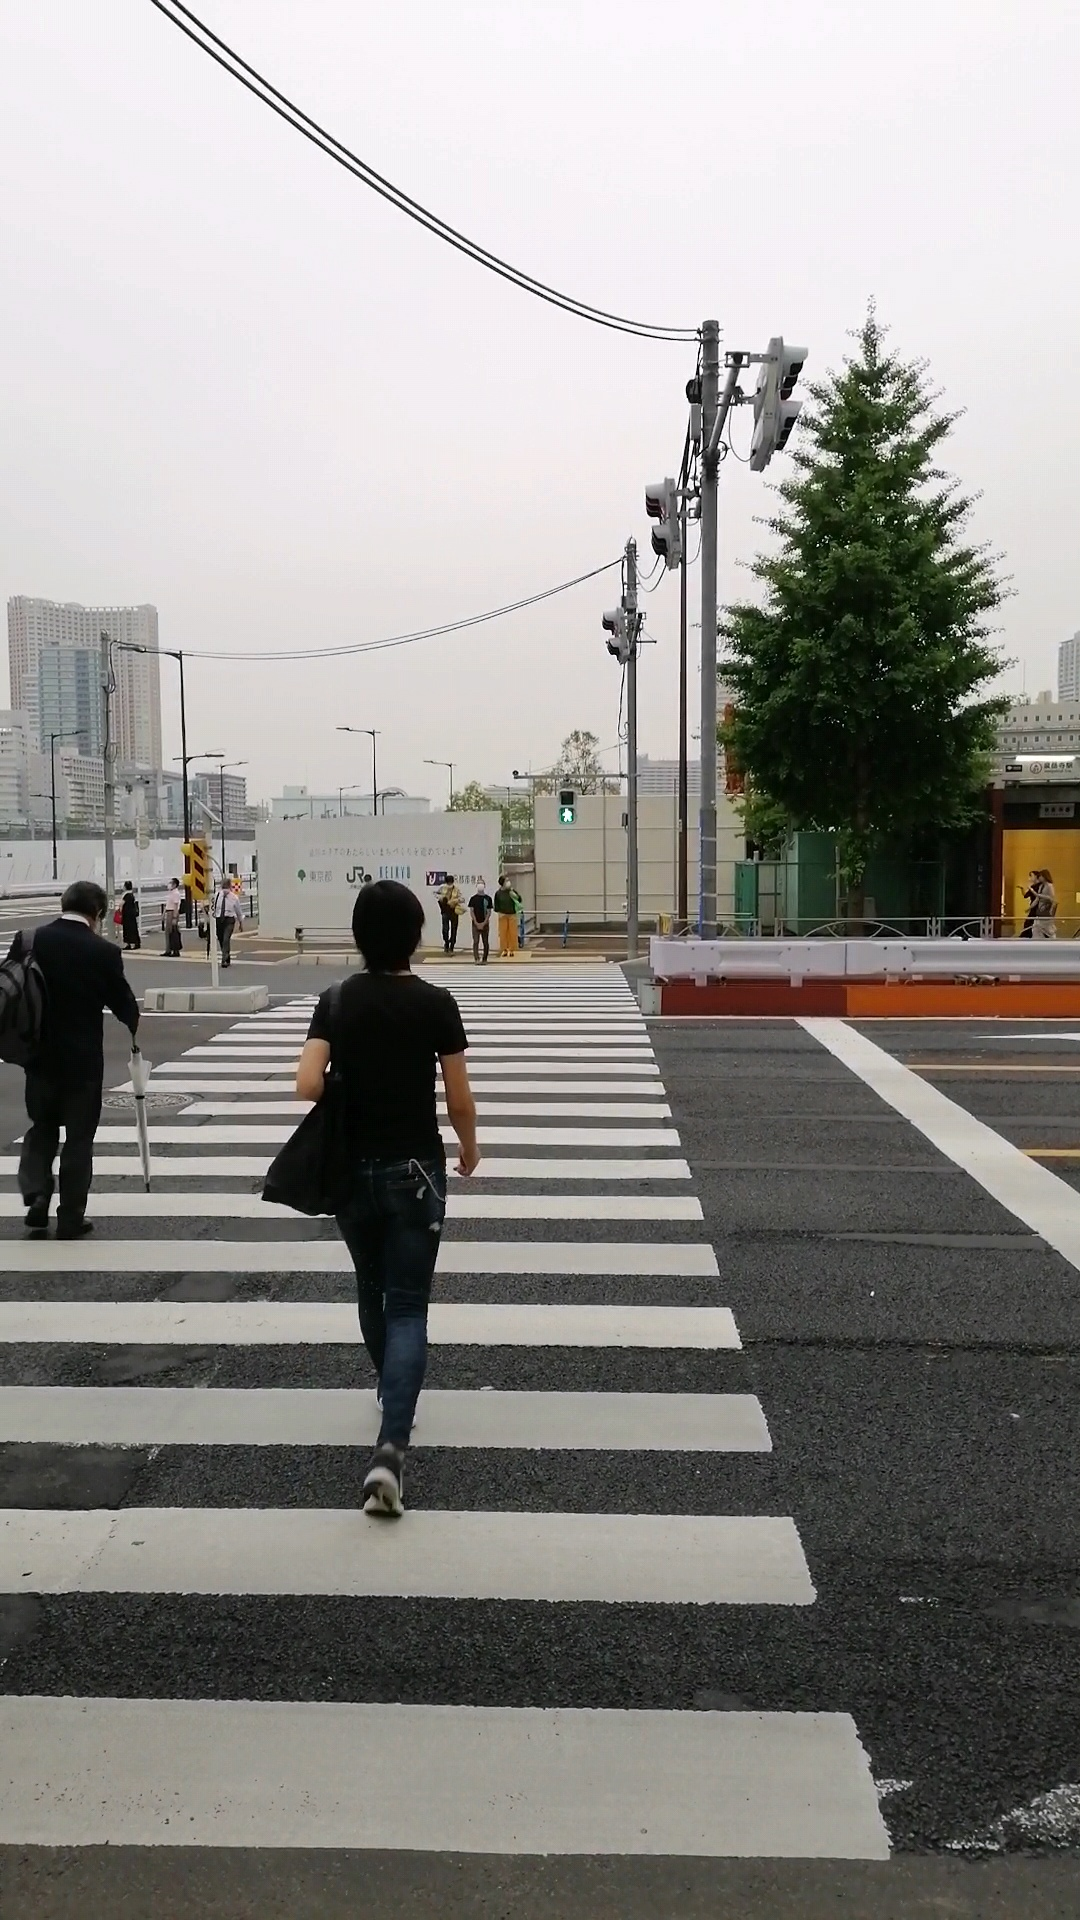green: (556, 787, 578, 825)
